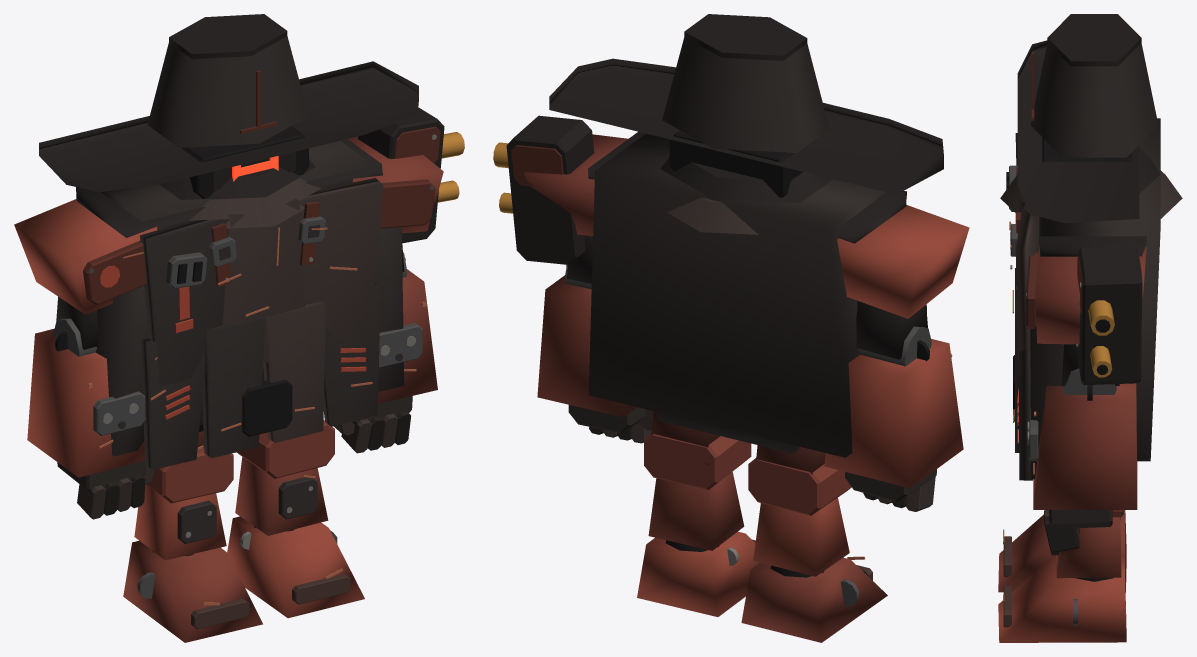
Rendered from wide-brim-colossus-v1.glb.
3 views of the same model, side by side, from view 1: azimuth 30°, elevation 25°; view 2: azimuth 150°, elevation 25°; view 3: azimuth 270°, elevation 25° (orthographic). The views are drawn at different scales.
Visible parts, largest first — view 1: Wide Brim Colossus · Original Colored Study; view 2: Wide Brim Colossus · Original Colored Study; view 3: Wide Brim Colossus · Original Colored Study.
Boxes of the visible parts, x1,y1,x2,y2 form: Wide Brim Colossus · Original Colored Study: (14,14,464,642); Wide Brim Colossus · Original Colored Study: (493,14,969,642); Wide Brim Colossus · Original Colored Study: (998,14,1182,642).
Bounding box in the file's own units: 6.58 × 8.14 × 2.43.
